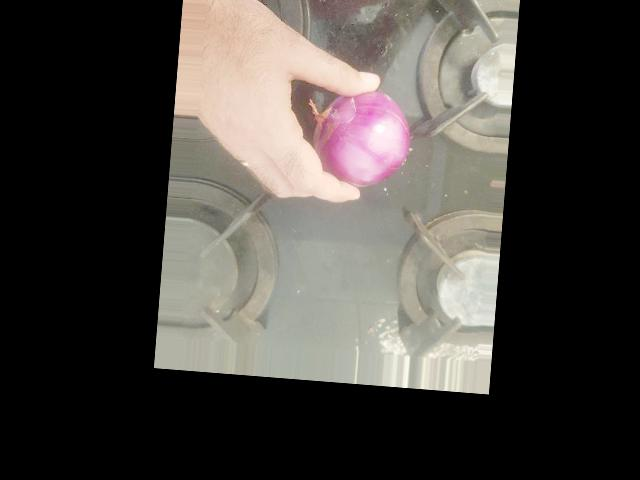onion: (354, 179, 451, 265)
